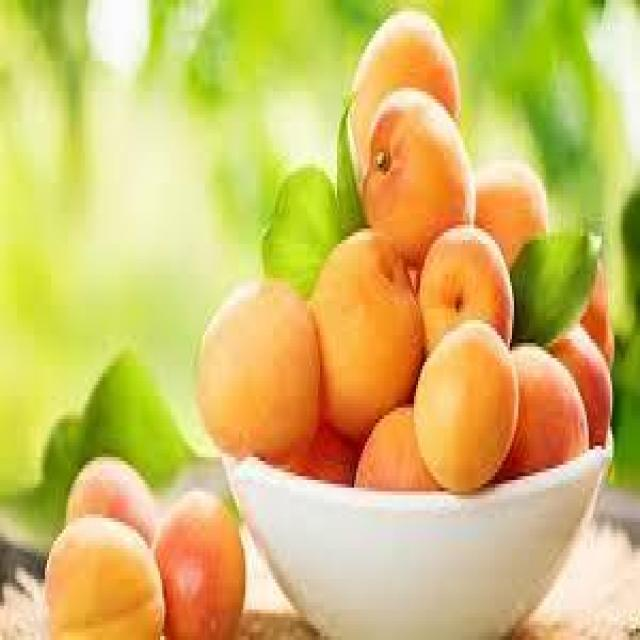kayisi: (305, 227, 427, 451), (192, 271, 326, 470), (354, 81, 480, 275), (409, 312, 523, 495), (40, 509, 170, 640), (150, 484, 251, 640), (415, 218, 521, 366)
yaprak: (259, 90, 370, 302), (505, 228, 604, 352)
